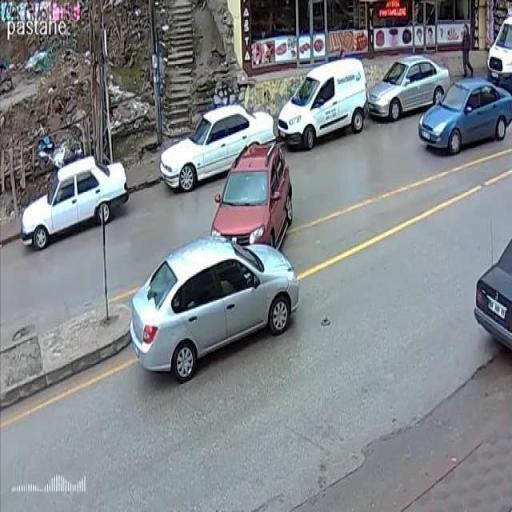小汽车: (18, 164, 124, 242), (420, 72, 511, 150), (164, 108, 269, 175), (276, 64, 368, 138), (374, 58, 448, 106)
小汽车撞小汽车: (124, 151, 312, 378)
